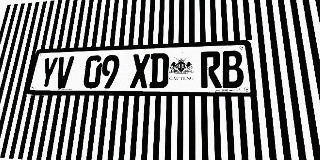0: (82, 55, 103, 88)
9: (100, 55, 120, 88)
B: (221, 50, 245, 88)
D: (149, 53, 169, 88)
R: (200, 51, 222, 88)
V: (54, 56, 74, 88)
X: (130, 54, 150, 88)
Y: (38, 57, 59, 88)
